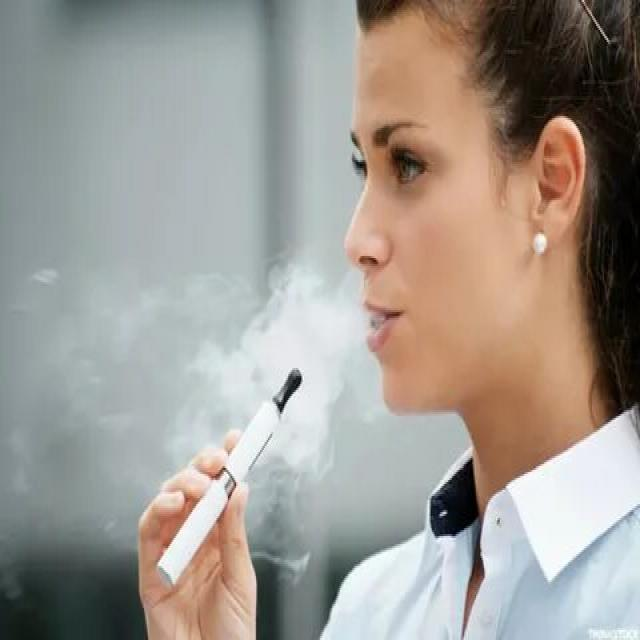smoke: (153, 360, 312, 590)
